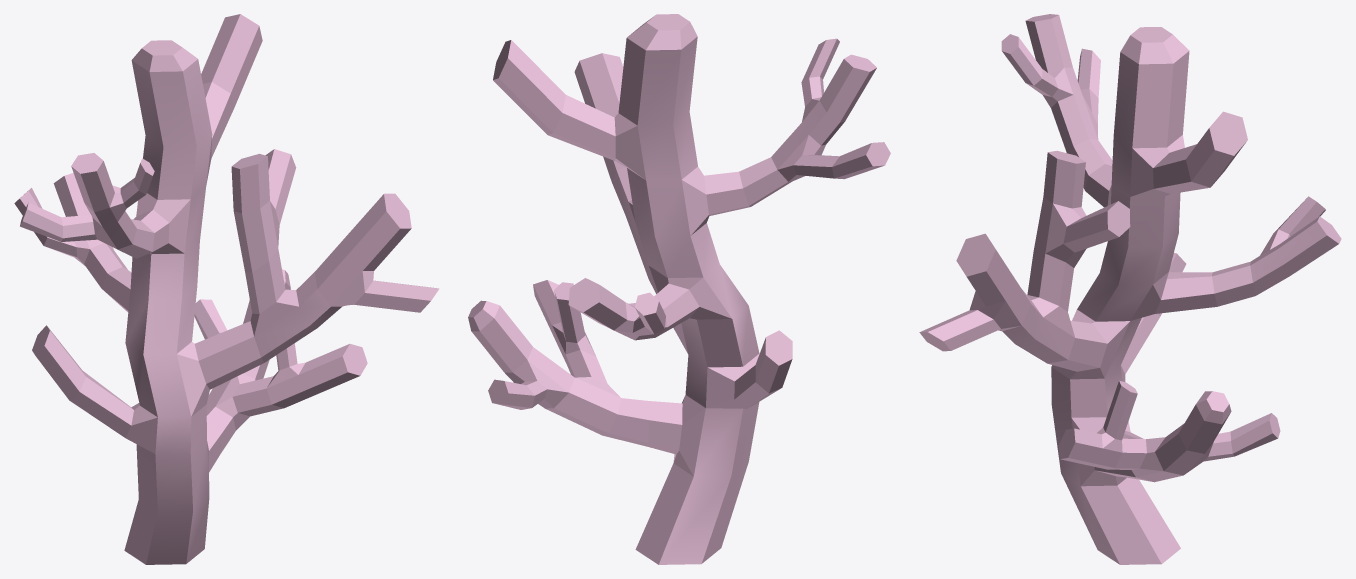
The model's file is coral2.fbx.
3 views of the same model, side by side, from view 1: azimuth 30°, elevation 25°; view 2: azimuth 150°, elevation 25°; view 3: azimuth 270°, elevation 25° (orthographic). The views are drawn at different scales.
Parts seen in each view (by area): view 1: pCylinder109; view 2: pCylinder109; view 3: pCylinder109.
Boxes of the visible parts, <box> form: pCylinder109: <box>14,14,439,564</box>; pCylinder109: <box>468,14,890,564</box>; pCylinder109: <box>919,14,1341,564</box>.
Size of the model in its own units: 2.02 by 2.74 by 2.03.
